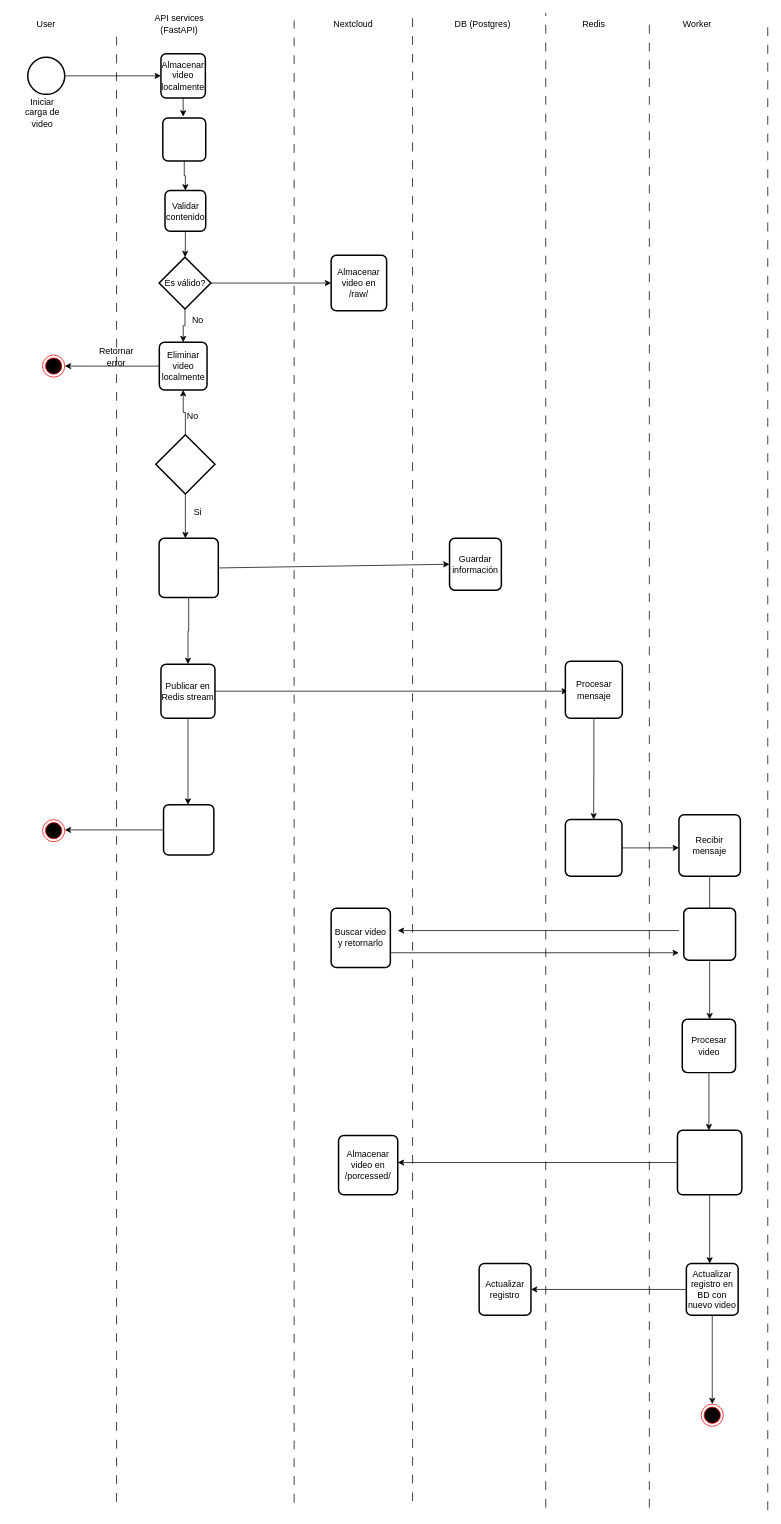
This 781x1524 diagram has some shape labels left out. The centre of each missing label's shape, as x and y in pixels:
Crear registro en BD: point (188, 567)
Descargar video de stoarge: point (709, 934)
Invocar worker: point (593, 847)
Obtener métadata: point (184, 139)
Respuesta exitosá?: point (185, 464)
Retornar respuesta al usuario: point (188, 829)
Subir video procesado: point (709, 1162)
